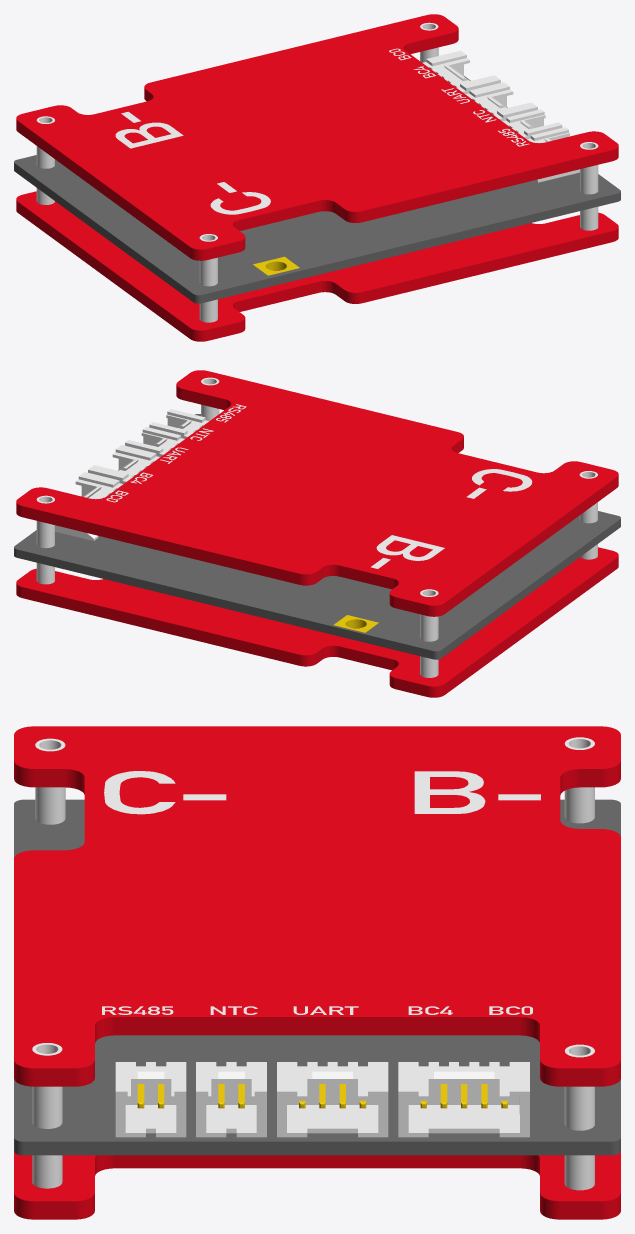
The model's file is bmsReadyver2.glb.
3 views of the same model, one above another, from view 1: azimuth 30°, elevation 25°; view 2: azimuth 150°, elevation 25°; view 3: azimuth 270°, elevation 25° (orthographic). The views are drawn at different scales.
Parts seen in each view (by area): view 1: Heat sink Top, SOLID, Heat sink Bottom, Shell, Shell (1), Spacer, Spacer003, Shell (2), Spacer002, Shell (3); view 2: Heat sink Top, SOLID, Heat sink Bottom, Shell (1), Shell, Spacer002, Spacer001, Shell (2), Shell (3), Spacer003; view 3: Heat sink Top, SOLID, Heat sink Bottom, Shell, Shell (1), Shell (3), Shell (2), Spacer001, Spacer, Spacer003, Spacer002.
Part boxes in pixels (left/top/right/bottom): Heat sink Top: left=16, top=14, right=618, bottom=260; SOLID: left=14, top=76, right=620, bottom=303; Heat sink Bottom: left=16, top=191, right=618, bottom=341; Shell: left=422, top=50, right=500, bottom=94; Shell (1): left=465, top=82, right=537, bottom=121; Spacer: left=580, top=142, right=598, bottom=230; Spacer003: left=199, top=234, right=217, bottom=322; Shell (2): left=502, top=109, right=562, bottom=139; Spacer002: left=36, top=116, right=54, bottom=204; Shell (3): left=527, top=127, right=579, bottom=182; Heat sink Top: left=16, top=370, right=618, bottom=616; SOLID: left=14, top=414, right=620, bottom=659; Heat sink Bottom: left=16, top=547, right=618, bottom=697; Shell (1): left=88, top=445, right=159, bottom=483; Shell: left=55, top=472, right=122, bottom=540; Spacer002: left=420, top=589, right=438, bottom=677; Spacer001: left=36, top=495, right=54, bottom=584; Shell (2): left=125, top=427, right=184, bottom=456; Shell (3): left=149, top=409, right=208, bottom=438; Spacer003: left=579, top=471, right=597, bottom=559; Heat sink Top: left=14, top=726, right=620, bottom=1086; SOLID: left=14, top=799, right=620, bottom=1155; Heat sink Bottom: left=14, top=1152, right=620, bottom=1219; Shell: left=398, top=1062, right=529, bottom=1137; Shell (1): left=277, top=1062, right=388, bottom=1137; Shell (3): left=115, top=1062, right=186, bottom=1137; Shell (2): left=196, top=1062, right=266, bottom=1137; Spacer001: left=564, top=1044, right=594, bottom=1190; Spacer: left=32, top=1043, right=62, bottom=1188; Spacer003: left=35, top=738, right=65, bottom=824; Spacer002: left=564, top=737, right=594, bottom=823.
Bounding box in the file's own units: 8.62 × 1.78 × 6.46.
